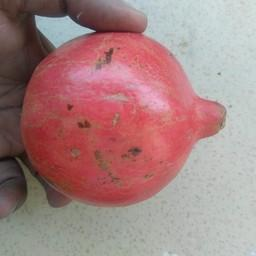Bad_pomegranate: (16, 26, 219, 201)
